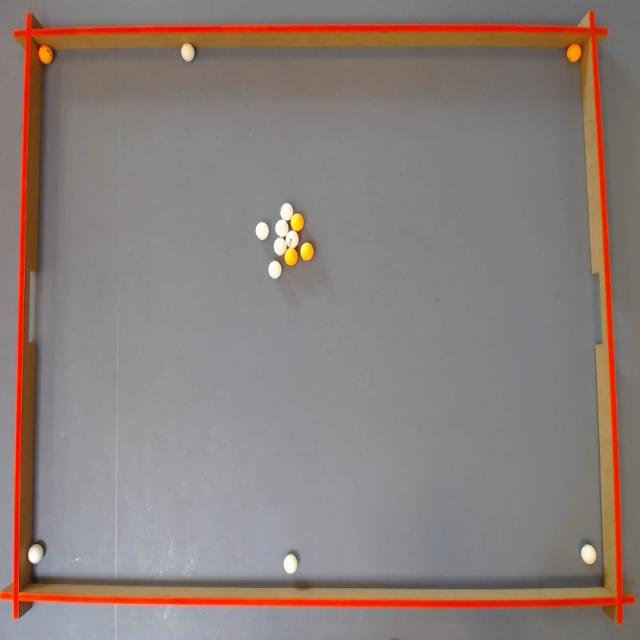orange_ball: (566, 44, 582, 62), (38, 45, 53, 64), (284, 247, 298, 266), (300, 242, 314, 260), (291, 213, 304, 231)
white_ball: (28, 543, 44, 565), (581, 543, 597, 565), (284, 554, 298, 574), (181, 43, 195, 62), (255, 222, 269, 240), (275, 219, 289, 237), (268, 260, 281, 278), (286, 230, 299, 248), (280, 203, 293, 220), (274, 238, 286, 255)
